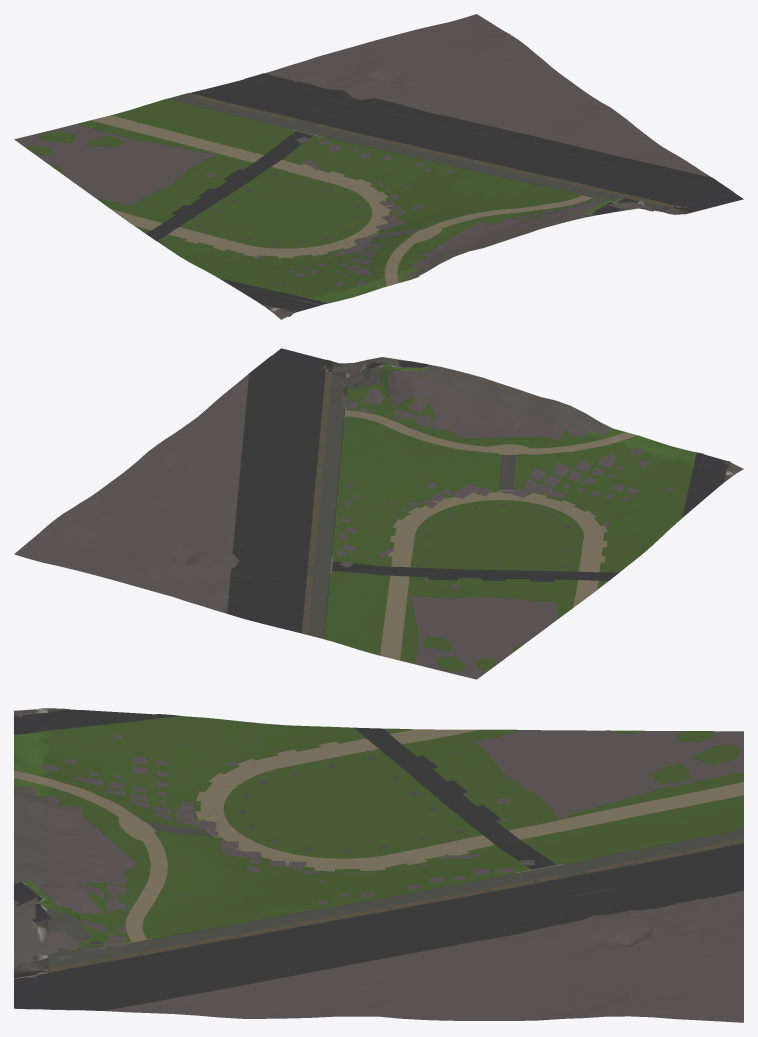
3 views of the same model, one above another, from view 1: azimuth 30°, elevation 25°; view 2: azimuth 150°, elevation 25°; view 3: azimuth 270°, elevation 25° (orthographic). The views are drawn at different scales.
Visible parts, largest first — view 1: c_m14_m10; view 2: c_m14_m10; view 3: c_m14_m10.
Part boxes in pixels (bbox=[...]): c_m14_m10: bbox=[14, 14, 743, 319]; c_m14_m10: bbox=[14, 348, 743, 679]; c_m14_m10: bbox=[14, 708, 743, 1022].
Size of the model in its own units: 128 by 11.5 by 128.
